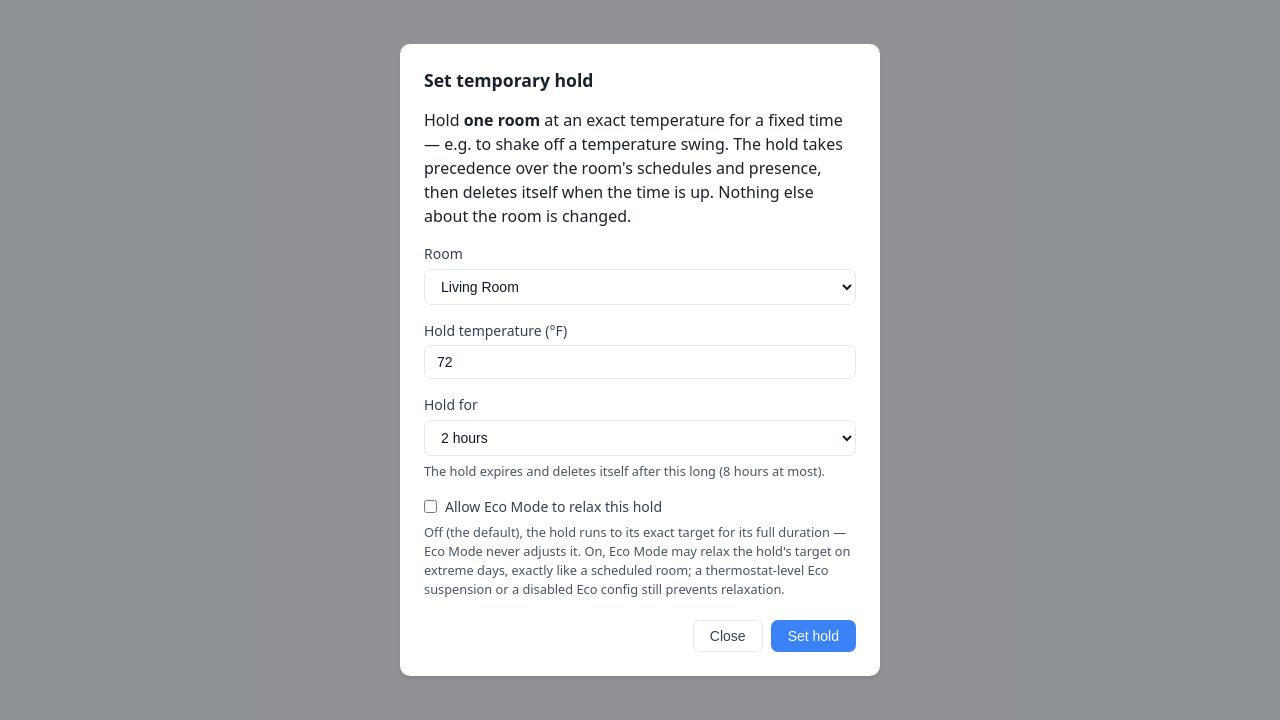
Test: HoldModal (Issue #576) › surfaces a save failure as an inline error and stays open
The image size is (1280, 720).
Click the button with test id "hold-modal-save" at (813, 636), box [771,620,856,652]
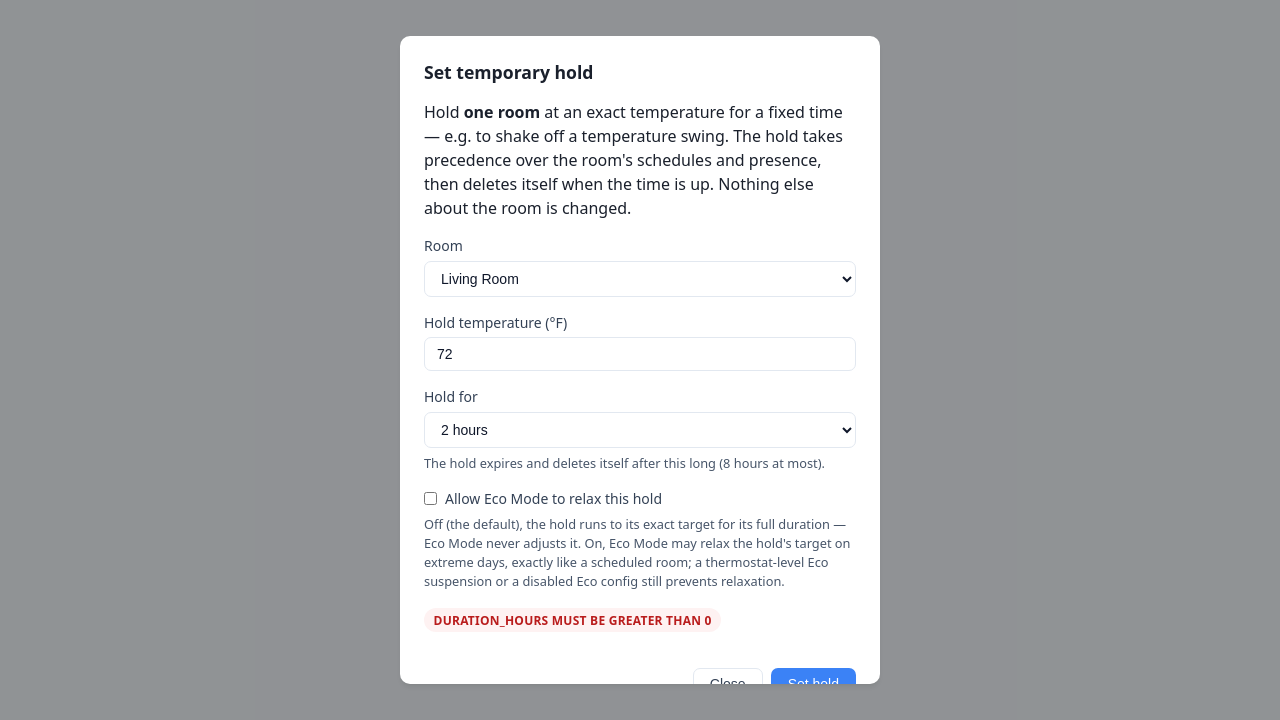
Expected: the element with test id "hold-modal" is shown, [400,36,880,684]
Expected: the text "duration_hours must be greater than 0" is shown, [424,608,721,632]
